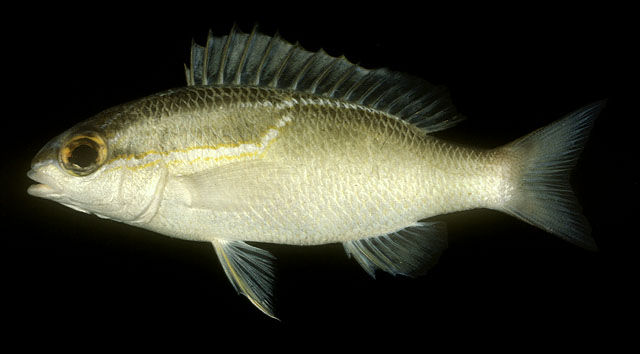fish: (26, 27, 597, 322)
